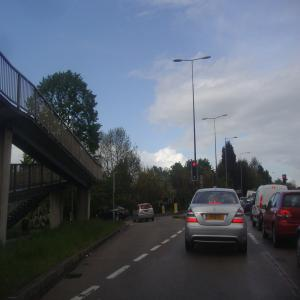Vehicle-registration-plate: (207, 215, 227, 222), (146, 210, 150, 213)
